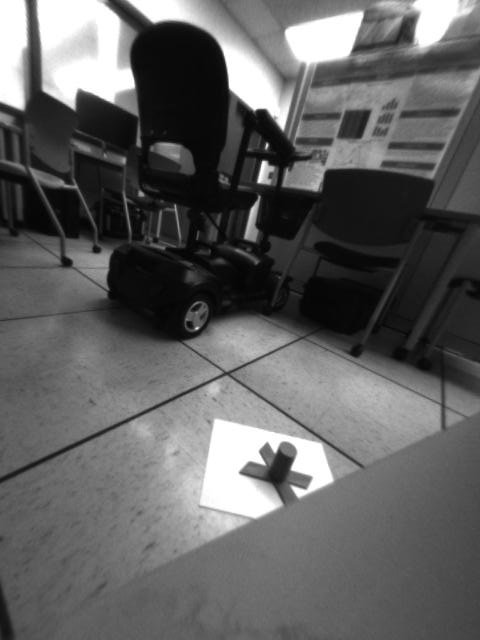X: (237, 440, 313, 505)
